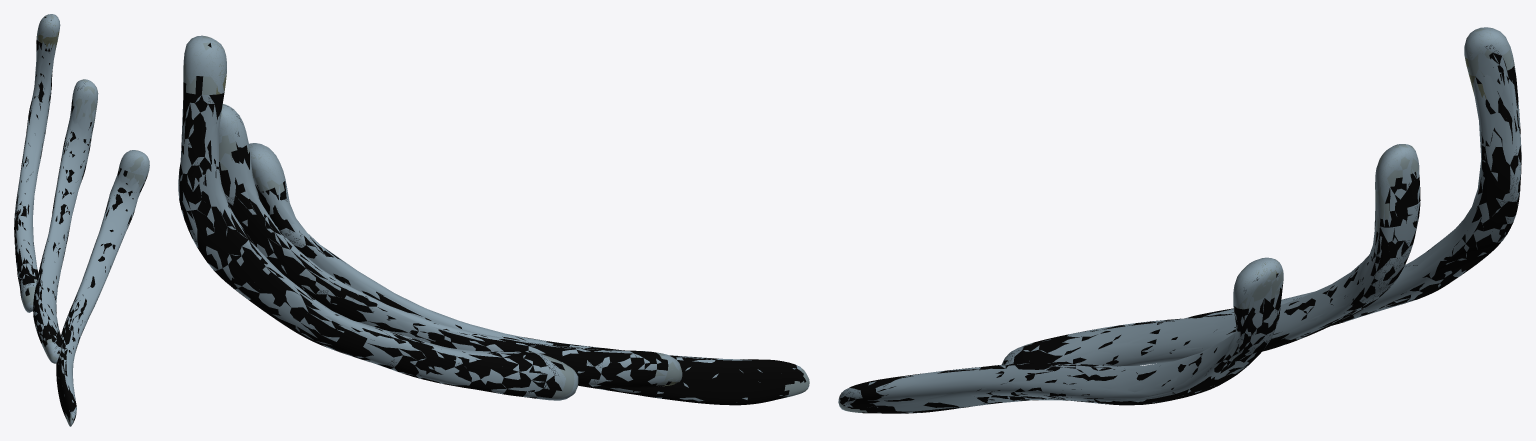
Rendered from Costal Cartilage Left.fbx.
3 views of the same model, side by side, from view 1: azimuth 30°, elevation 25°; view 2: azimuth 150°, elevation 25°; view 3: azimuth 270°, elevation 25° (orthographic). The views are drawn at different scales.
Visible parts, largest first — view 1: Costal Cartilage Left, Costal Cartilage Left low, Costal Cartilage Left high; view 2: Costal Cartilage Left high, Costal Cartilage Left, Costal Cartilage Left low; view 3: Costal Cartilage Left, Costal Cartilage Left high, Costal Cartilage Left low.
Part boxes in pixels (box(x1,y1,x2,y2)): Costal Cartilage Left: box(14, 14, 149, 426); Costal Cartilage Left low: box(15, 46, 140, 392); Costal Cartilage Left high: box(14, 15, 149, 426); Costal Cartilage Left high: box(179, 35, 809, 405); Costal Cartilage Left: box(178, 35, 808, 402); Costal Cartilage Left low: box(181, 100, 722, 361); Costal Cartilage Left: box(838, 27, 1521, 413); Costal Cartilage Left high: box(839, 27, 1521, 413); Costal Cartilage Left low: box(881, 58, 1518, 406).
Bounding box in the file's own units: 13.4 × 18.45 × 21.99.
